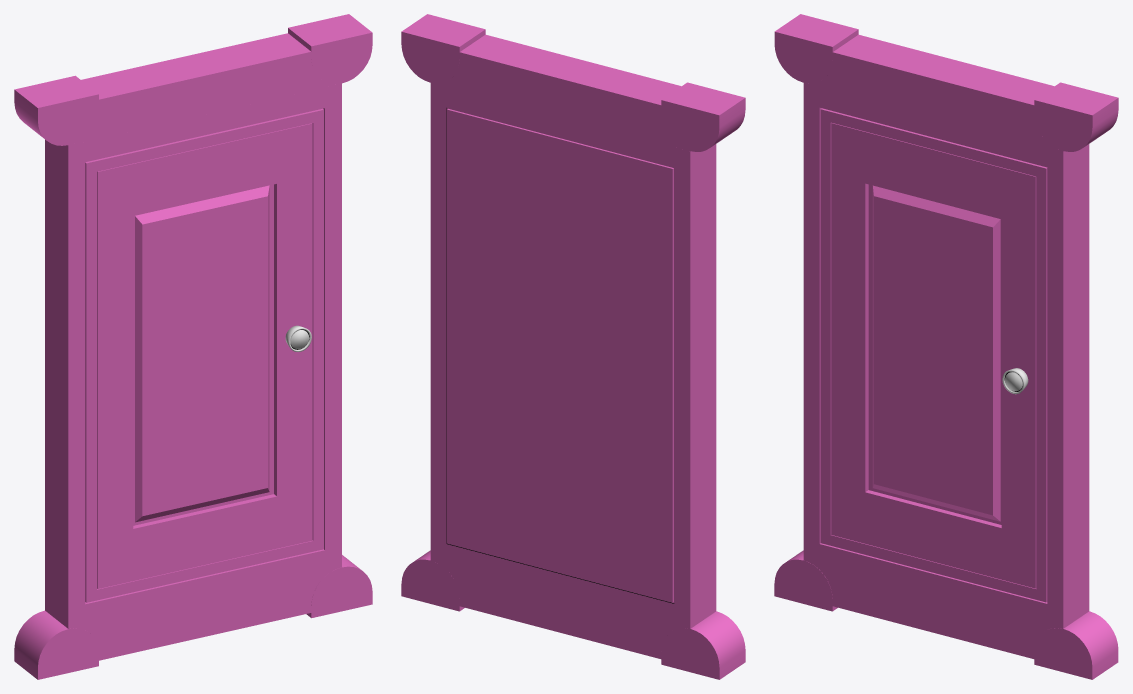
3 views of the same model, side by side, from view 1: azimuth 30°, elevation 25°; view 2: azimuth 150°, elevation 25°; view 3: azimuth 330°, elevation 25° (orthographic).
Visible parts, largest first — view 1: Cube, Cube.001, Cube.003, Cube.002, Cylinder.003, Cylinder, Cylinder.004; view 2: Cube, Cube.001, Cube.003, Cube.002, Cylinder.003, Cylinder; view 3: Cube, Cube.001, Cube.003, Cube.002, Cylinder.003, Cylinder, Cylinder.004.
Boxes of the visible parts, box(x1,y1,x2,y2) form: Cube: box(85, 108, 323, 602); Cube.001: box(45, 84, 341, 628); Cube.003: box(68, 33, 341, 145); Cube.002: box(45, 567, 341, 660); Cylinder.003: box(14, 14, 372, 145); Cylinder: box(14, 555, 372, 679); Cylinder.004: box(285, 325, 311, 351); Cube: box(447, 108, 673, 602); Cube.001: box(430, 83, 716, 628); Cube.003: box(431, 34, 690, 151); Cube.002: box(431, 560, 715, 658); Cylinder.003: box(401, 14, 745, 151); Cylinder: box(401, 550, 745, 679); Cube: box(820, 108, 1047, 602); Cube.001: box(803, 83, 1089, 628); Cube.003: box(804, 34, 1063, 151); Cube.002: box(803, 560, 1088, 658); Cylinder.003: box(774, 14, 1118, 151); Cylinder: box(774, 550, 1118, 679); Cylinder.004: box(1002, 368, 1028, 394).
Bounding box in the file's own units: 2.83 × 4.68 × 0.5265.
